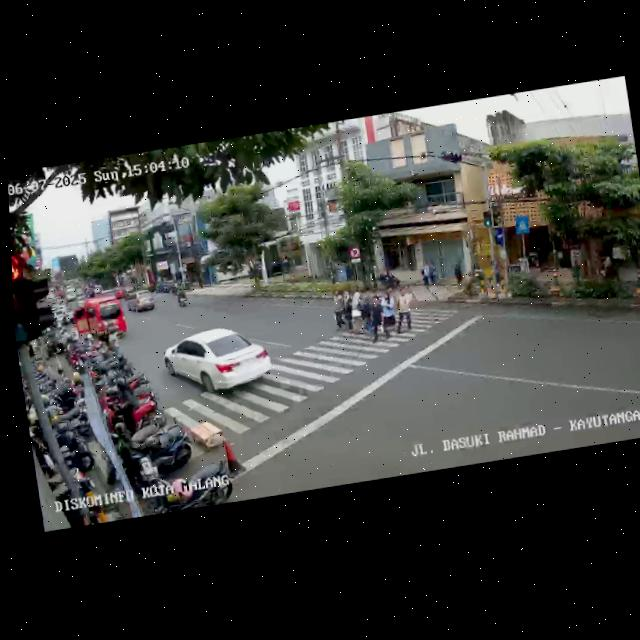car: (160, 319, 277, 403), (69, 291, 128, 347), (125, 287, 158, 316)
motorcycle: (173, 284, 189, 307)
person: (390, 286, 415, 334), (364, 294, 388, 343), (379, 291, 398, 340), (338, 289, 357, 333), (348, 289, 367, 333), (329, 288, 347, 332), (419, 261, 432, 287)
